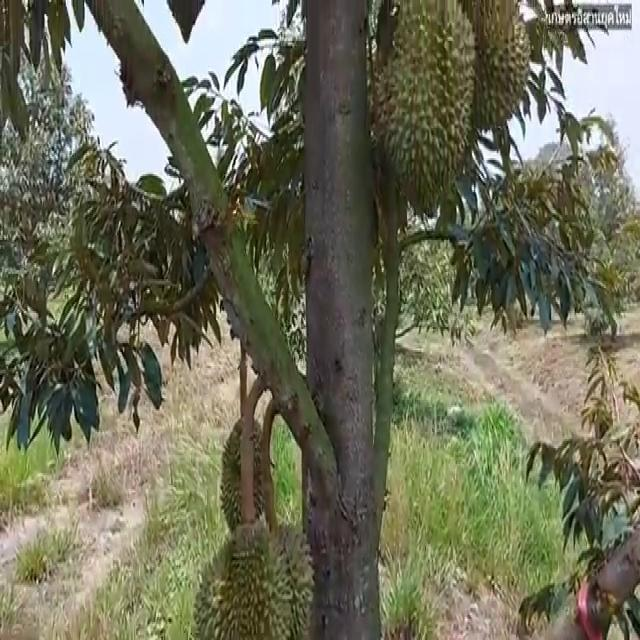durian: (370, 0, 480, 229), (414, 0, 538, 143), (184, 517, 316, 638), (218, 410, 273, 538)
